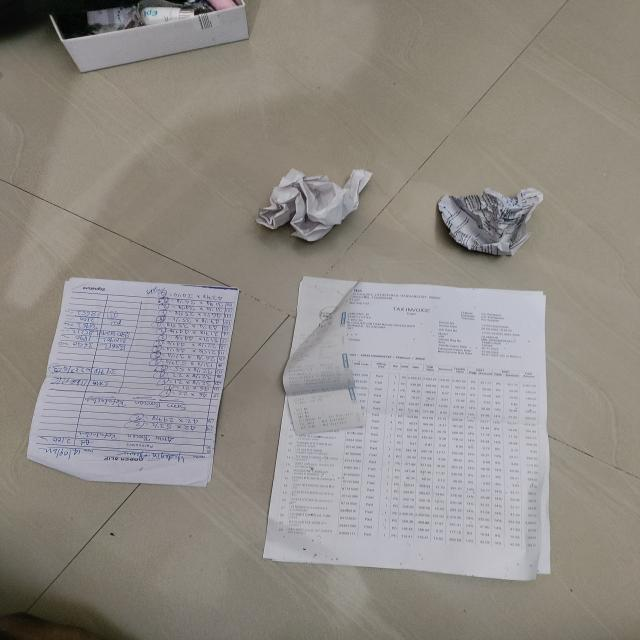dry: (272, 260, 610, 597), (0, 276, 244, 508), (7, 3, 284, 89), (242, 167, 388, 243), (438, 188, 559, 265)
